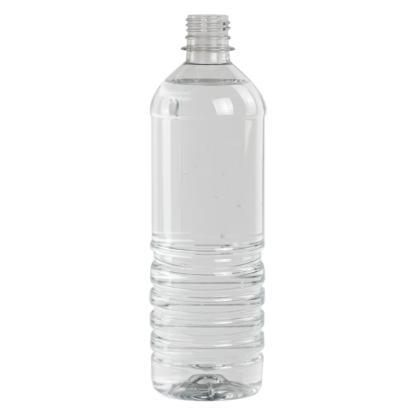bottle: (136, 8, 284, 406)
